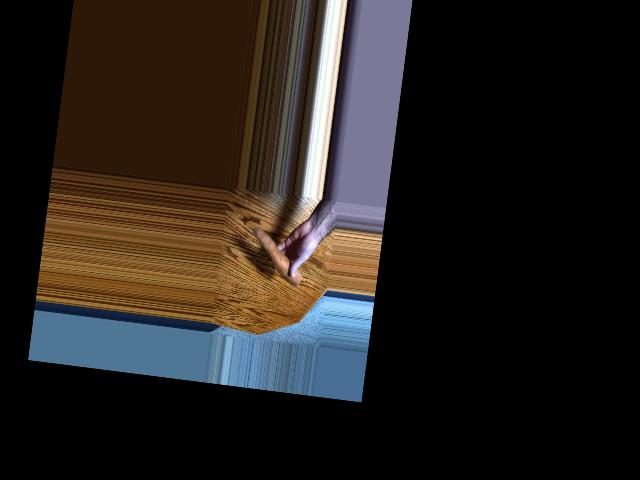sweet_potato: (248, 227, 308, 284)
